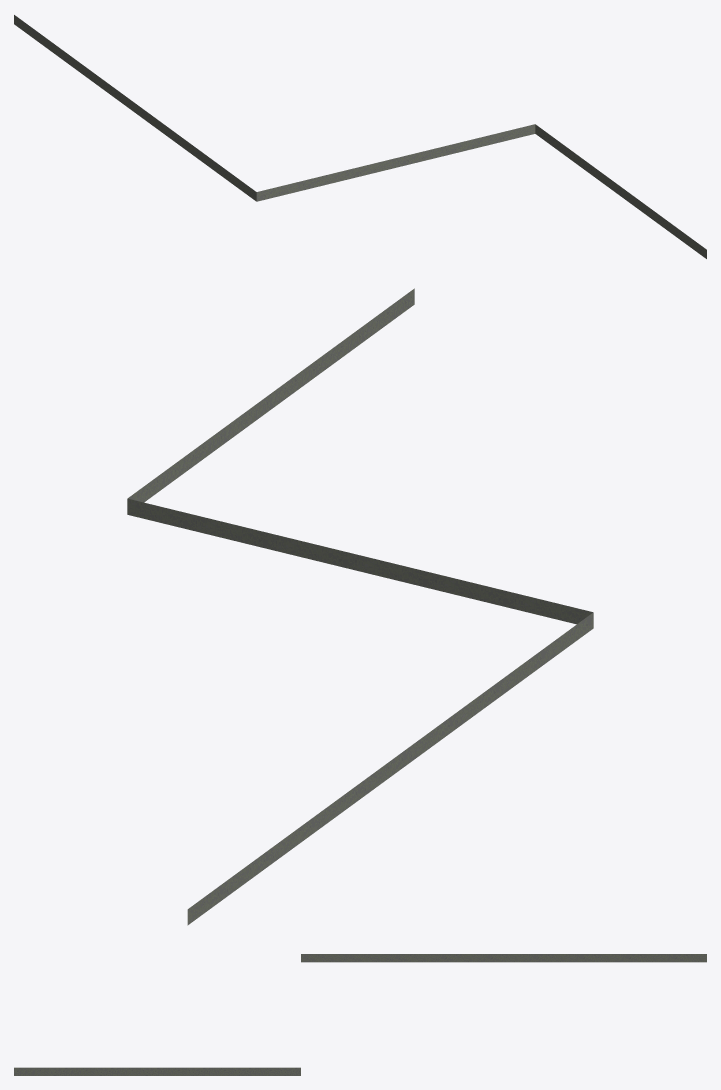
The model's file is kd_stage_135b75_4_20_bounded_portal.glb.
The picture shows the model from 3 angles, top to bottom: view 1: azimuth 30°, elevation 25°; view 2: azimuth 150°, elevation 25°; view 3: azimuth 270°, elevation 25°; orthographic projection. The views are drawn at different scales.
Parts seen in each view (by area): view 1: kd_stage_135b75_4_20_bounded_portal; view 2: kd_stage_135b75_4_20_bounded_portal; view 3: kd_stage_135b75_4_20_bounded_portal.
Boxes of the visible parts, x1=… form: kd_stage_135b75_4_20_bounded_portal: x1=14, y1=15, x2=706, y2=258; kd_stage_135b75_4_20_bounded_portal: x1=127, y1=288, x2=593, y2=925; kd_stage_135b75_4_20_bounded_portal: x1=14, y1=954, x2=706, y2=1075.
Size of the model in its own units: 1.5 by 0.05 by 3.86.
Materials: 1 (1 with a texture image).
